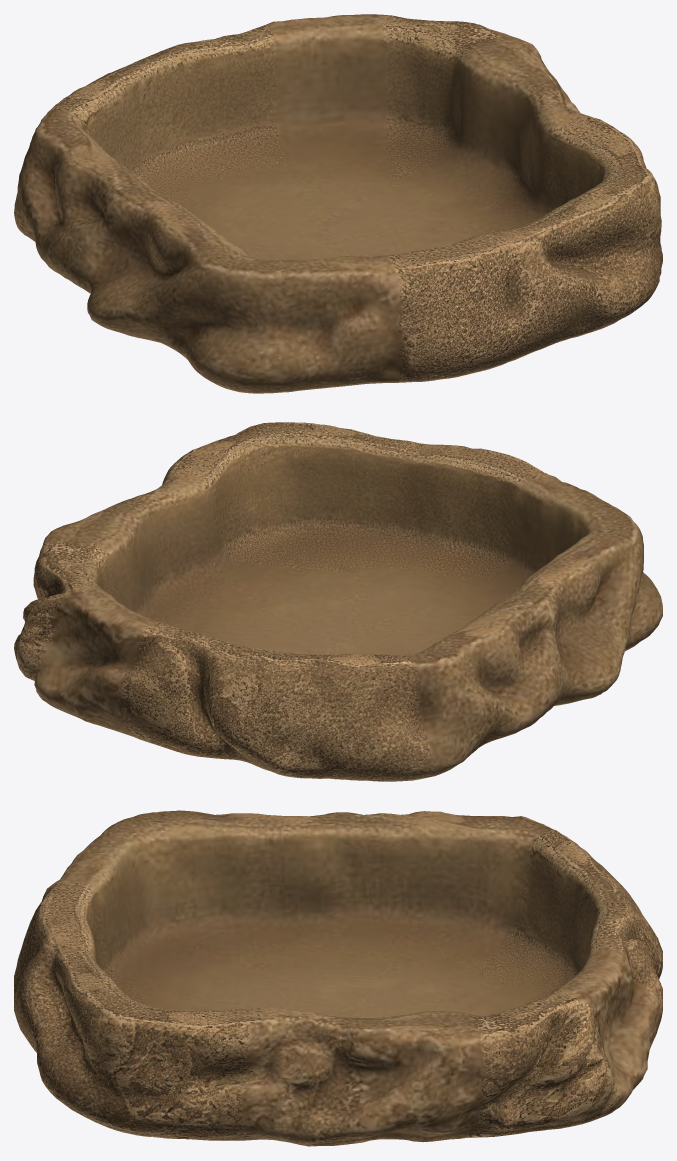
The model's file is food_dish_stone_01.glb.
The picture shows the model from 3 angles, top to bottom: view 1: azimuth 30°, elevation 25°; view 2: azimuth 150°, elevation 25°; view 3: azimuth 270°, elevation 25°; orthographic projection. The views are drawn at different scales.
Visible parts, largest first — view 1: tripo_node_8c6f682a-ccc6-4f0f-b0ce-ca2928356598; view 2: tripo_node_8c6f682a-ccc6-4f0f-b0ce-ca2928356598; view 3: tripo_node_8c6f682a-ccc6-4f0f-b0ce-ca2928356598.
Boxes of the visible parts, box(x1,y1,x2,y2) form: tripo_node_8c6f682a-ccc6-4f0f-b0ce-ca2928356598: box(14, 14, 662, 393); tripo_node_8c6f682a-ccc6-4f0f-b0ce-ca2928356598: box(14, 422, 662, 781); tripo_node_8c6f682a-ccc6-4f0f-b0ce-ca2928356598: box(14, 810, 662, 1146).
Bounding box in the file's own units: 0.9668 × 0.2051 × 0.998.
1 material, 1 textured.
